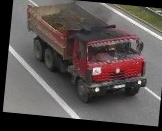truck: (19, 0, 155, 108)
